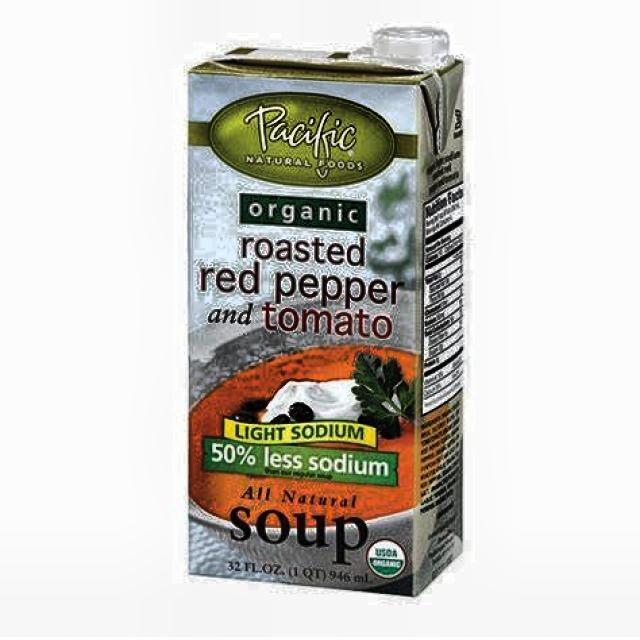cardboard: (185, 42, 466, 597)
